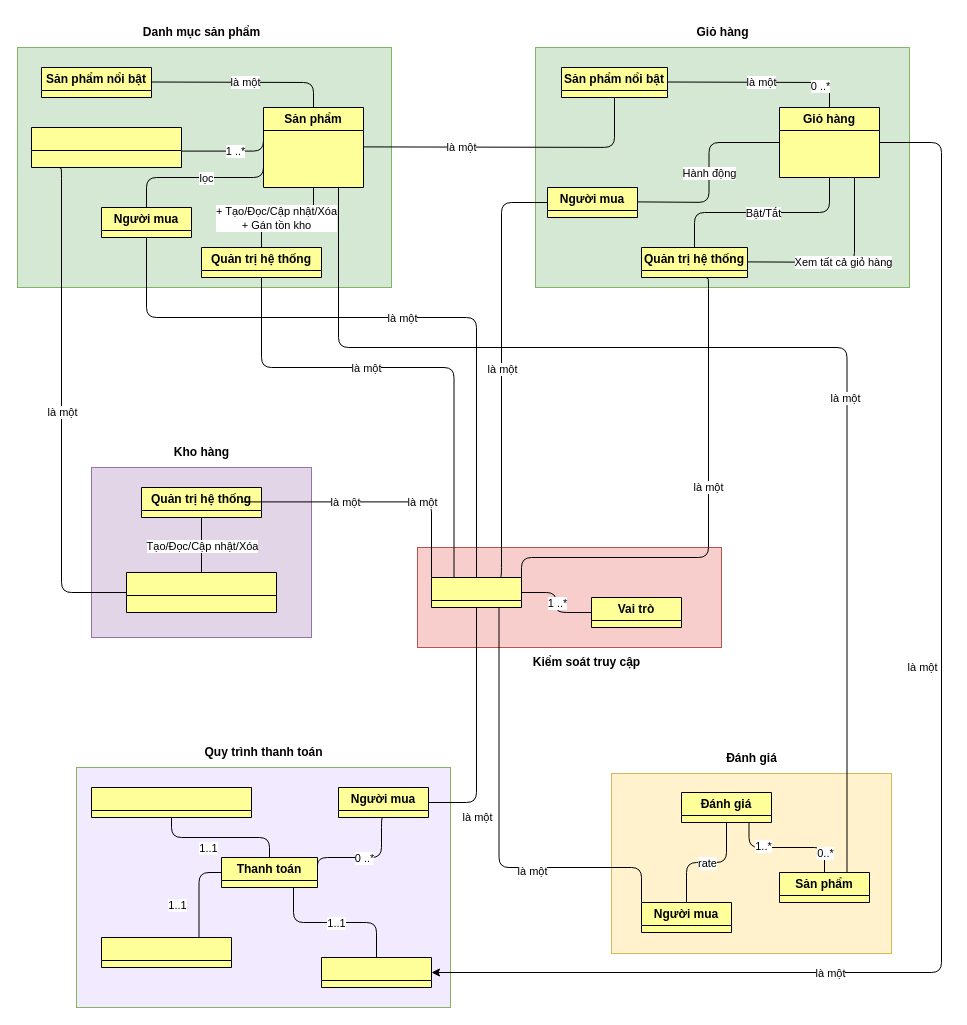
Some shapes in this 967 by 1025 pixel diagram are drawn without their labels. Here are the shapes that lost their labels. From the top down, the centre of each, then its label:
At point (106, 147): "Thông tin tồn kho".
At point (201, 592): "Tồn kho".
At point (476, 592): "Người dùng".
At point (171, 802): "Phương thức thanh toán".
At point (166, 952): "Trạng thái thanh toán".
At point (376, 972): "Thông tin giỏ hàng".
